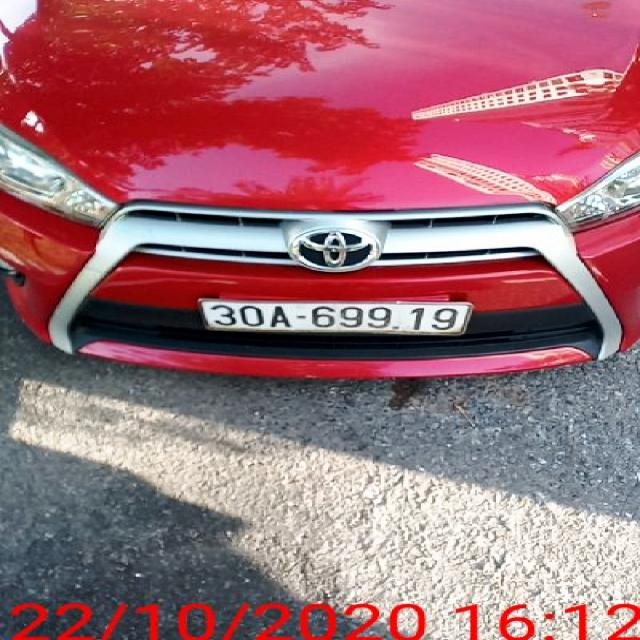license_plate: (207, 300, 472, 334)
